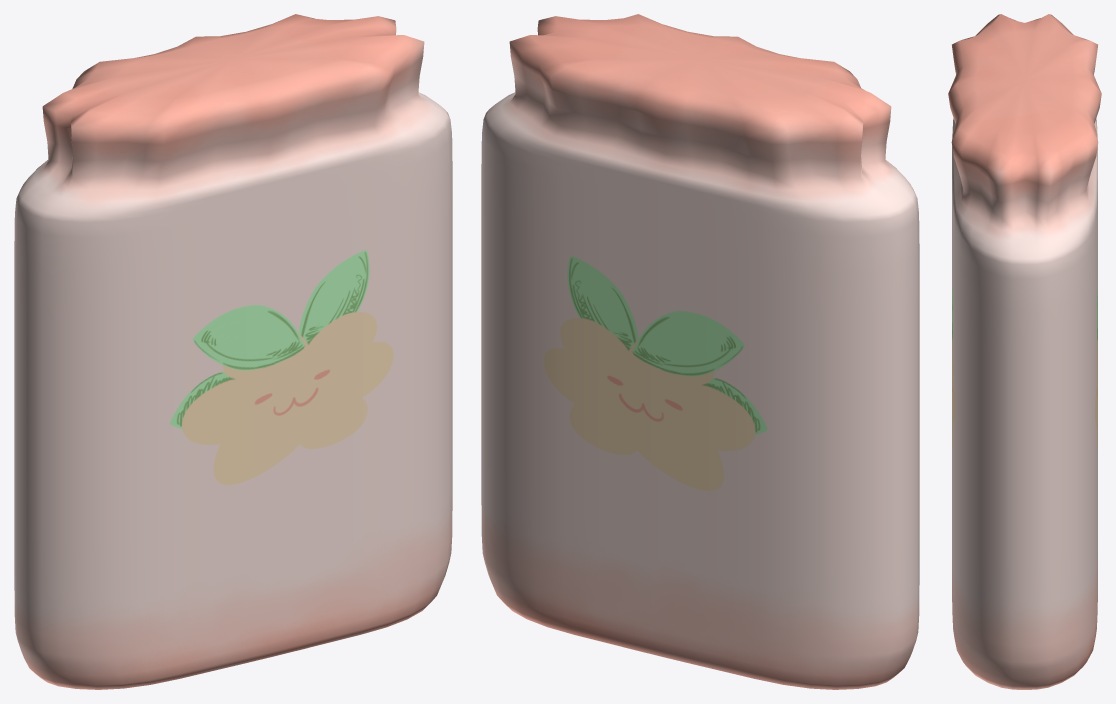
Rendered from Seedbag2.fbx.
3 renders of one model, left to right at view 1: azimuth 30°, elevation 25°; view 2: azimuth 150°, elevation 25°; view 3: azimuth 270°, elevation 25°, orthographic. The views are drawn at different scales.
Visible parts, largest first — view 1: seedbag2; view 2: seedbag2; view 3: seedbag2.
Part boxes in pixels (x1,y1,x2,y2): seedbag2: [14, 14, 452, 689]; seedbag2: [481, 14, 919, 689]; seedbag2: [948, 14, 1101, 689].
Bounding box in the file's own units: 32.96 × 43.11 × 11.37.
Materials: 1 (1 with a texture image).
